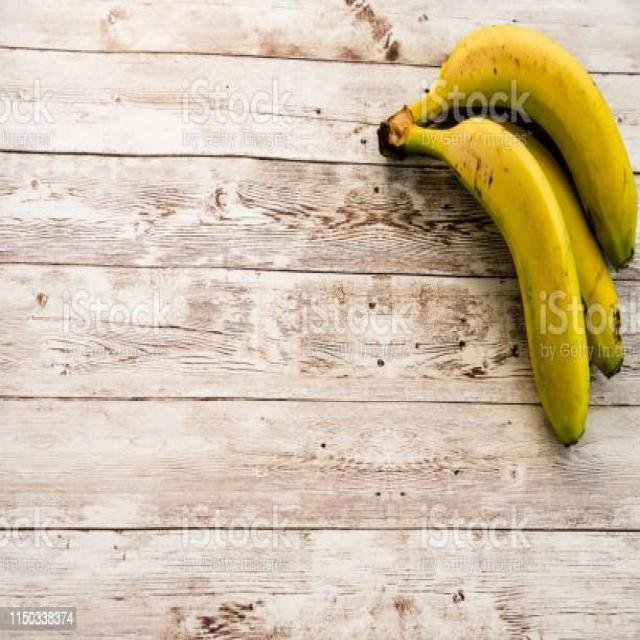banana: (377, 19, 638, 454)
